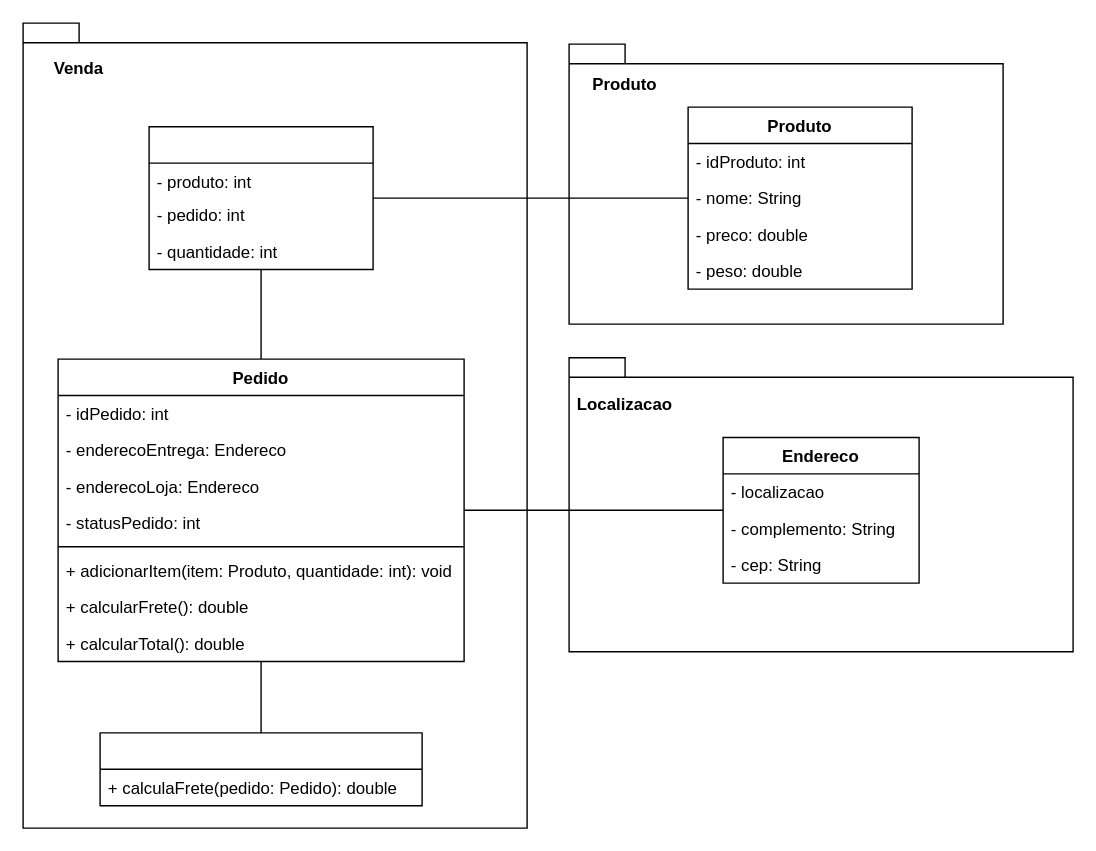
Image size: 1096x851. Some labels were removed from this diagram. Each missing label, with the box of its shape:
ContadorFrete: (99, 732, 422, 806)
ItemPedido: (148, 125, 373, 270)
